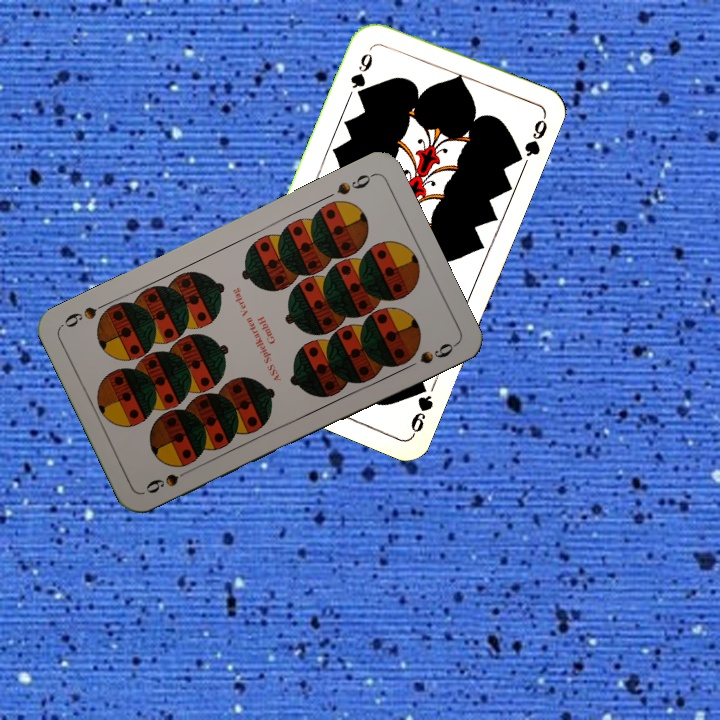G9: (406, 377, 436, 438), (346, 49, 375, 101)
S9: (141, 465, 197, 496), (333, 169, 377, 198)
